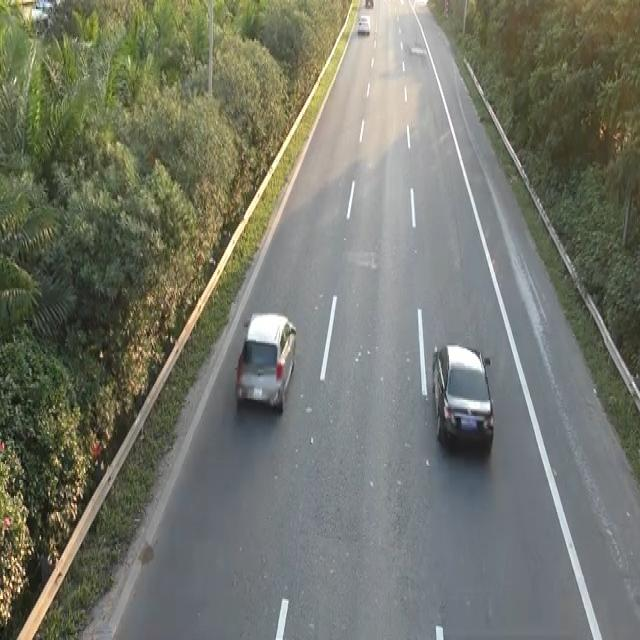bus: (429, 338, 496, 453), (232, 308, 299, 422)
